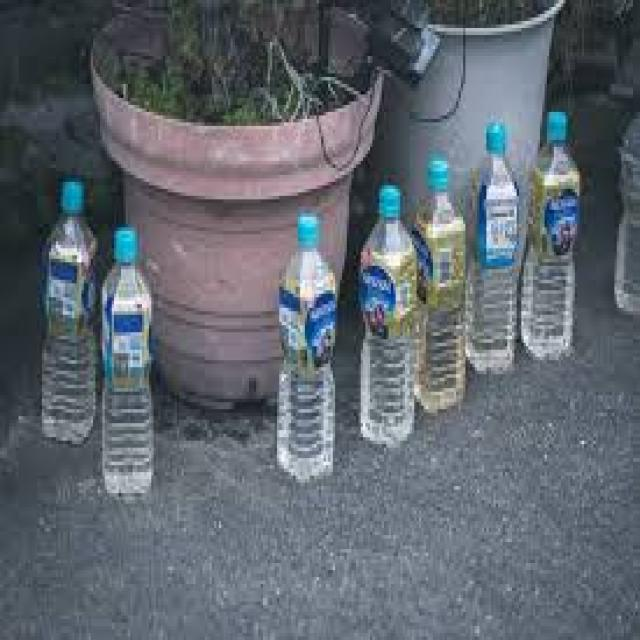bottom: (353, 400, 413, 454), (93, 454, 157, 499), (272, 435, 334, 480), (36, 399, 96, 445), (417, 370, 467, 417), (469, 330, 517, 378), (519, 322, 571, 364)
cap: (536, 100, 574, 151), (56, 171, 94, 220), (424, 145, 452, 198), (106, 226, 140, 266), (373, 185, 402, 227), (486, 117, 509, 165), (294, 211, 318, 253)
